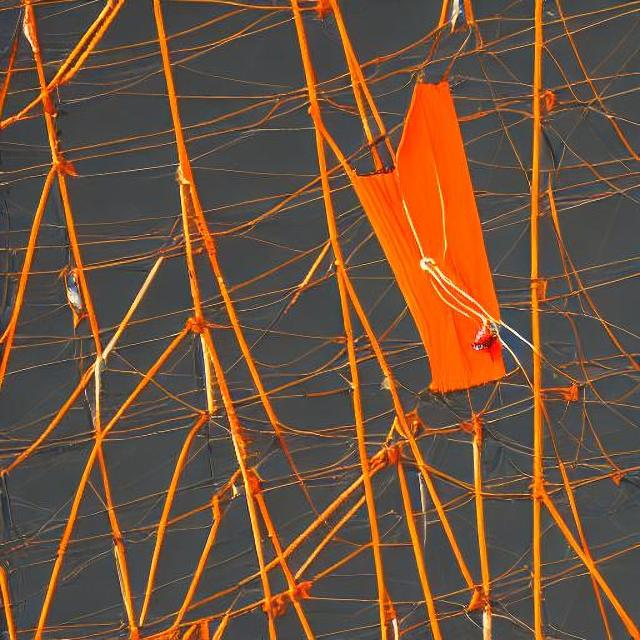plastic bag: (320, 81, 523, 408)
